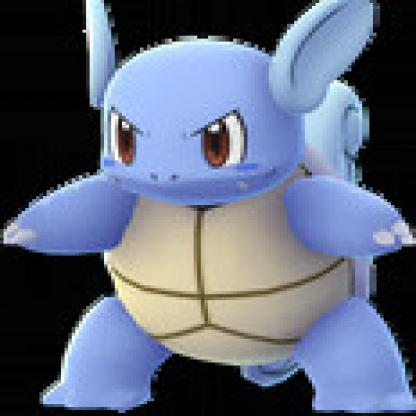Wartortle: (1, 1, 414, 415)
